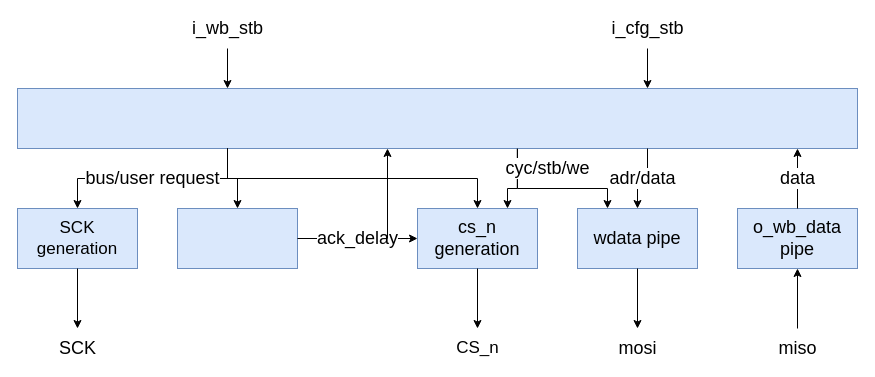
This 875x377 diagram has some shape labels left out. The centre of each missing label's shape, as x and y in pixels:
ack_delay state control: (237,238)
Wishbone termination: (437,118)
